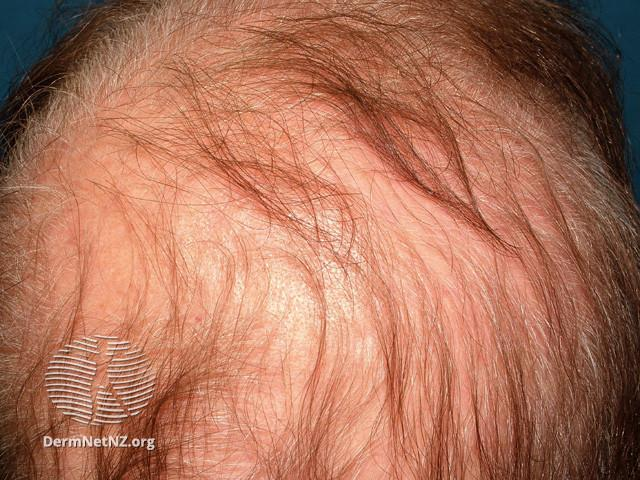Alopecia Areata: (75, 143, 515, 317)
